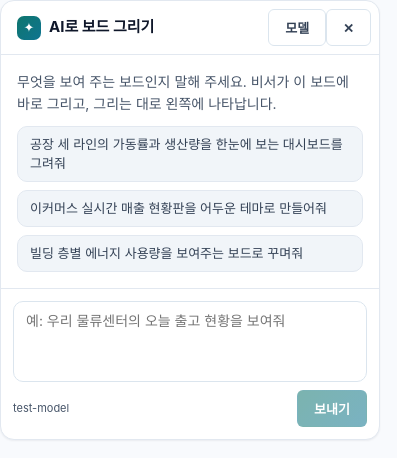
the assistant panel › says plainly when the endpoint cannot be reached
Type "그려줘" into the text box named "비서에게 보낼 말". click: [190, 341]
box: [13,301,367,382]
Then press Enter
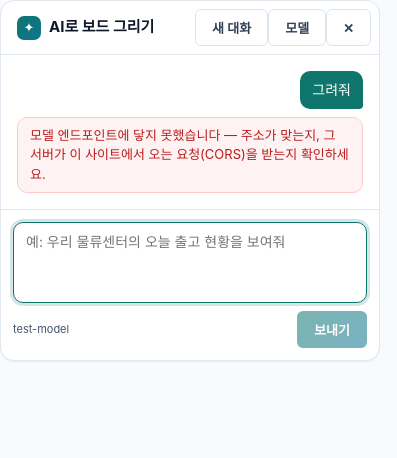
Expected: the message shows "CORS", [30,127,349,182]
